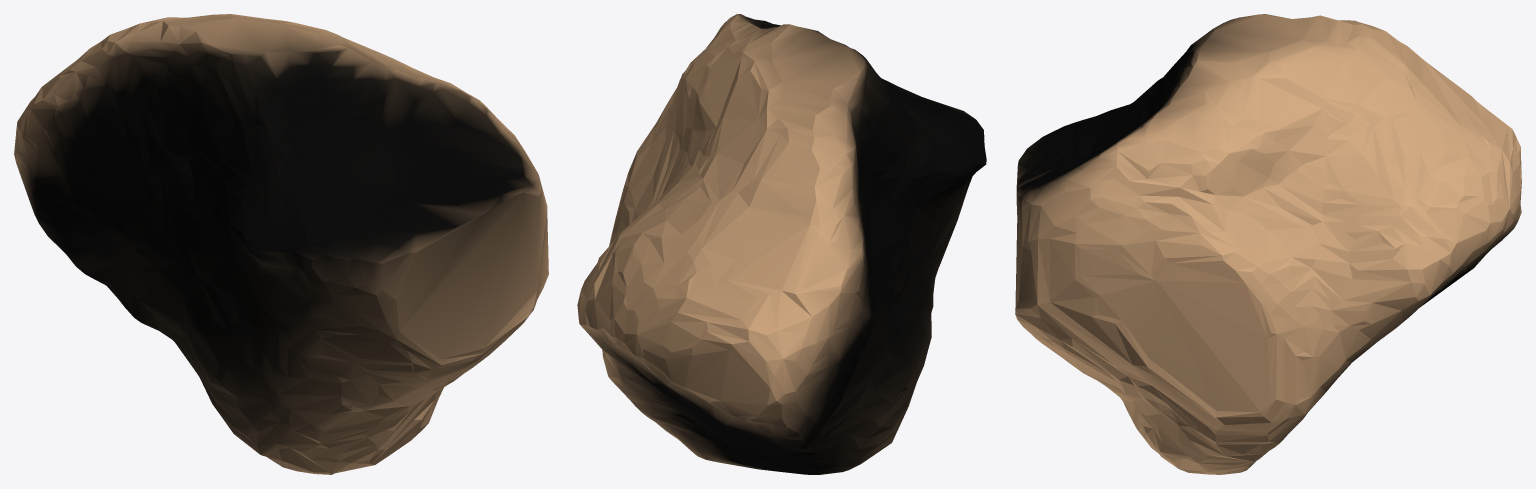
The model's file is Geometry8_lao.dae.
3 views of the same model, side by side, from view 1: azimuth 30°, elevation 25°; view 2: azimuth 150°, elevation 25°; view 3: azimuth 270°, elevation 25° (orthographic). The views are drawn at different scales.
Visible parts, largest first — view 1: node; view 2: node; view 3: node.
Part boxes in pixels (left/top/right/bottom): node: left=14, top=14, right=548, bottom=474; node: left=577, top=14, right=986, bottom=474; node: left=1015, top=14, right=1521, bottom=474.
Size of the model in its own units: 24.04 by 30.58 by 35.55.
